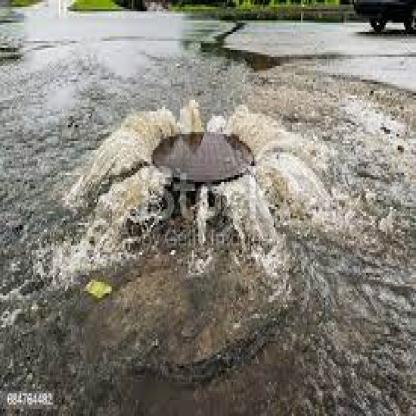drainage overflow-repair-: (56, 43, 338, 363)
